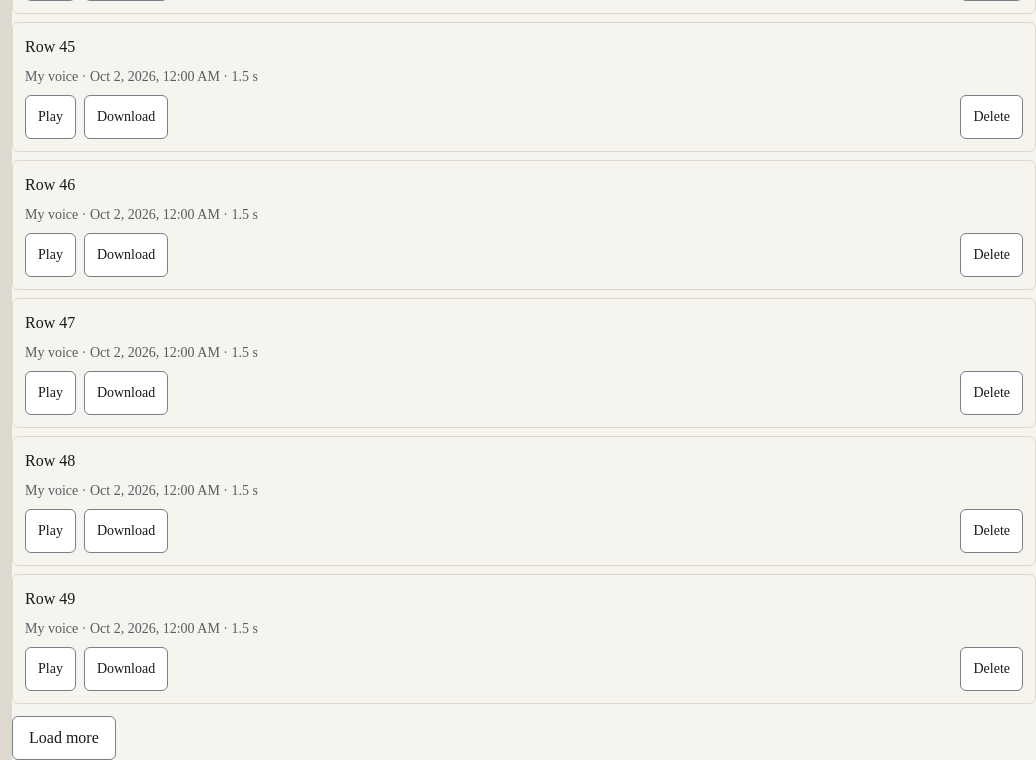
Test case: HistoryList › loads more pages with offset and never duplicates rows
(page scrolled)
Click the button "Load more".
click(64, 738)  # box left=12, top=716, right=116, bottom=759
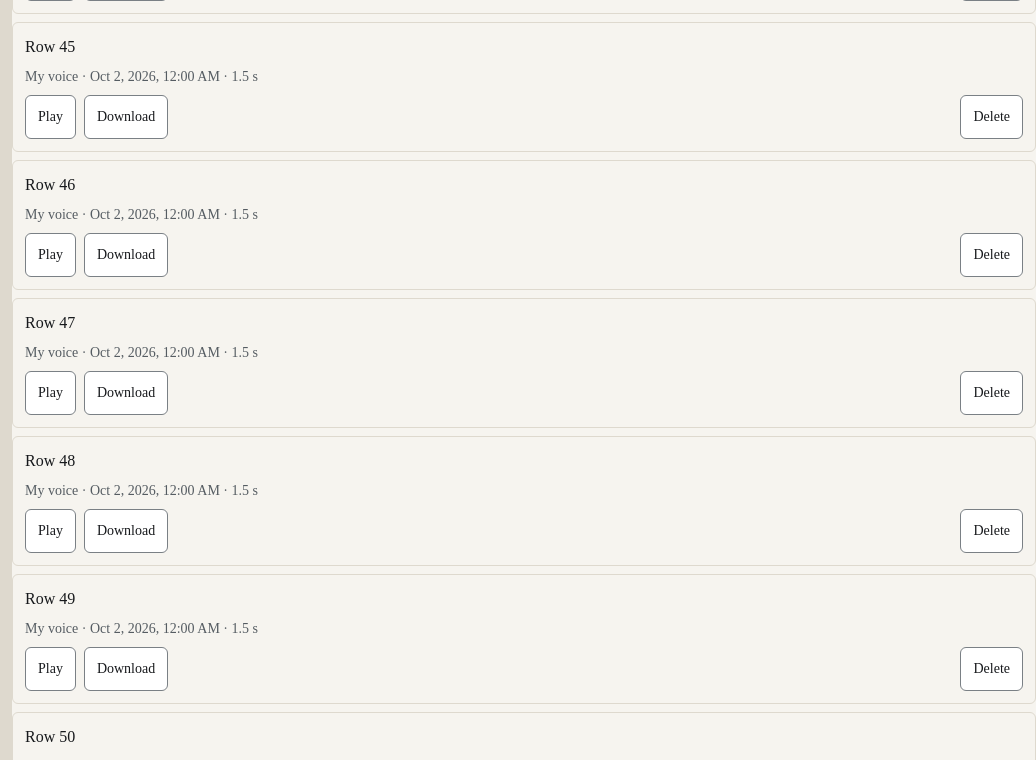
Check: the text "Row 49" is shown once, box left=25, top=590, right=75, bottom=607
Check: the text "Row 50" is shown, box left=25, top=728, right=75, bottom=745
Check: the button "Load more" is gone
